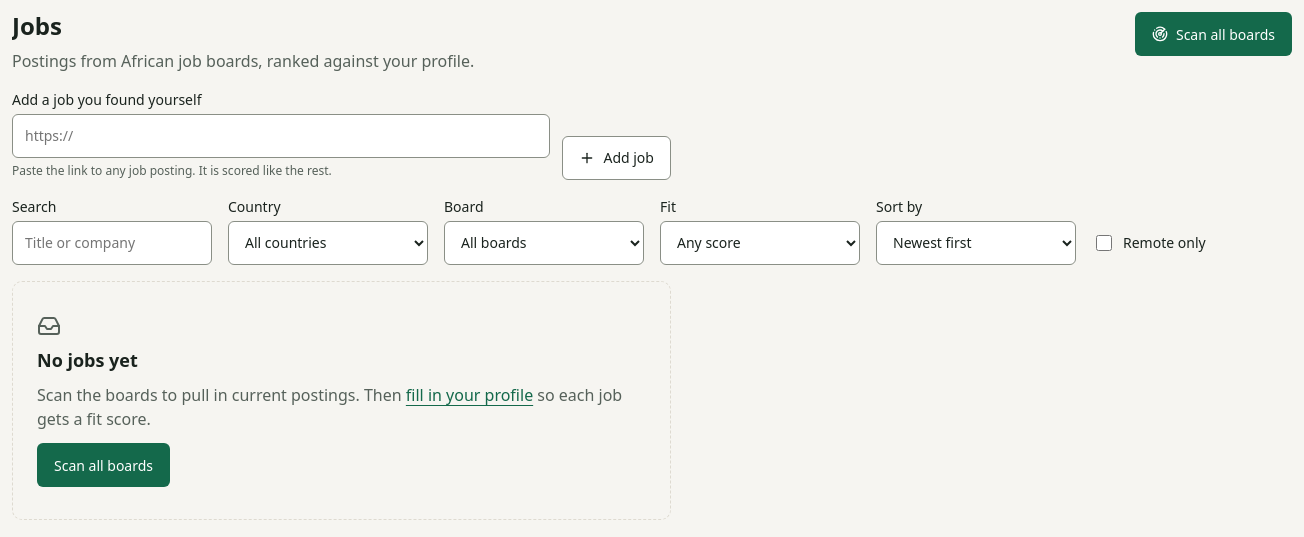
Test case: JobsPage › shows the server's reason when a link cannot be added
The image size is (1304, 537).
Type "nope" into the field labelled "Add a job you found yourself".
click(281, 136); type("nope")  # box [12,114,550,158]
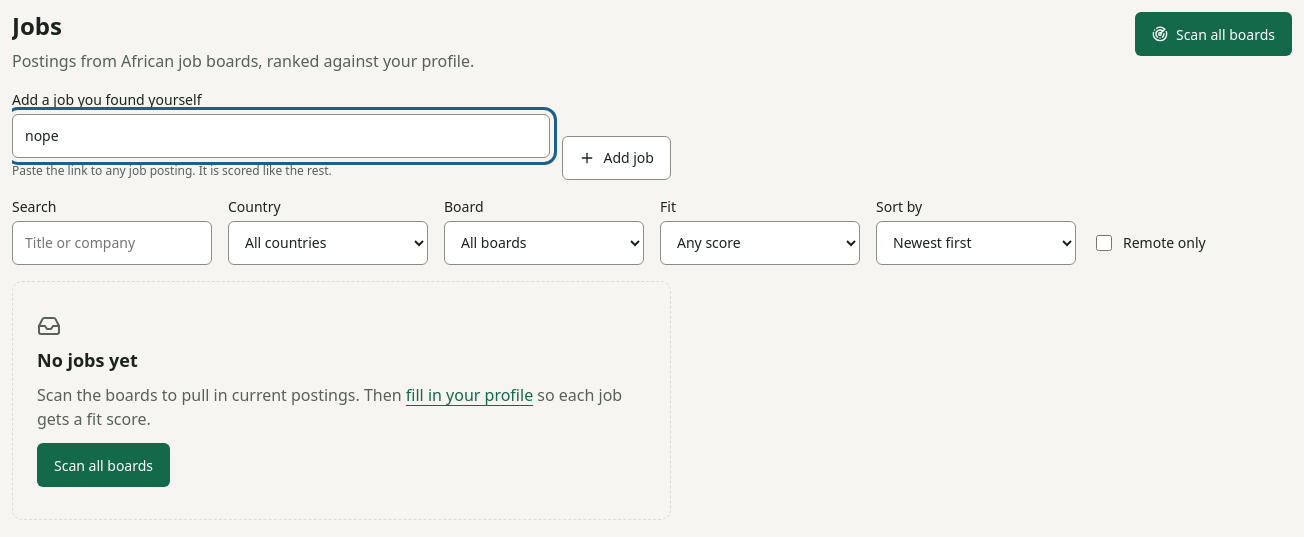
Click the button "Add job".
click(617, 158)  # box [562,136,671,180]
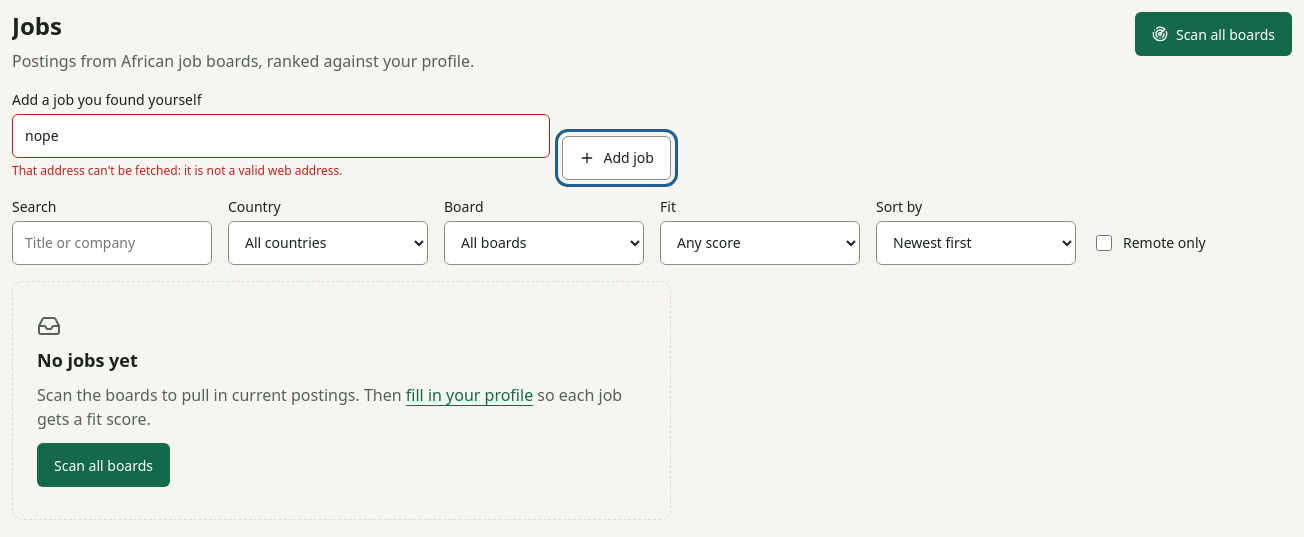
Now the text "not a valid web address" is shown, box [12,162,342,179]
